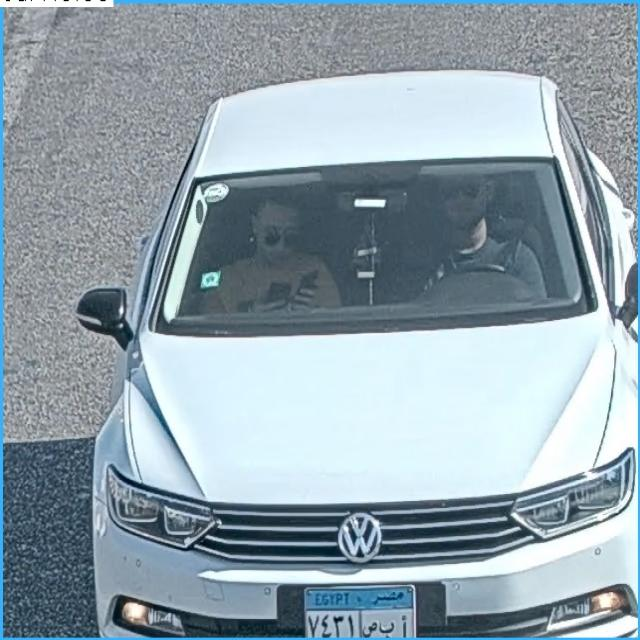windshield: (152, 148, 598, 334)
